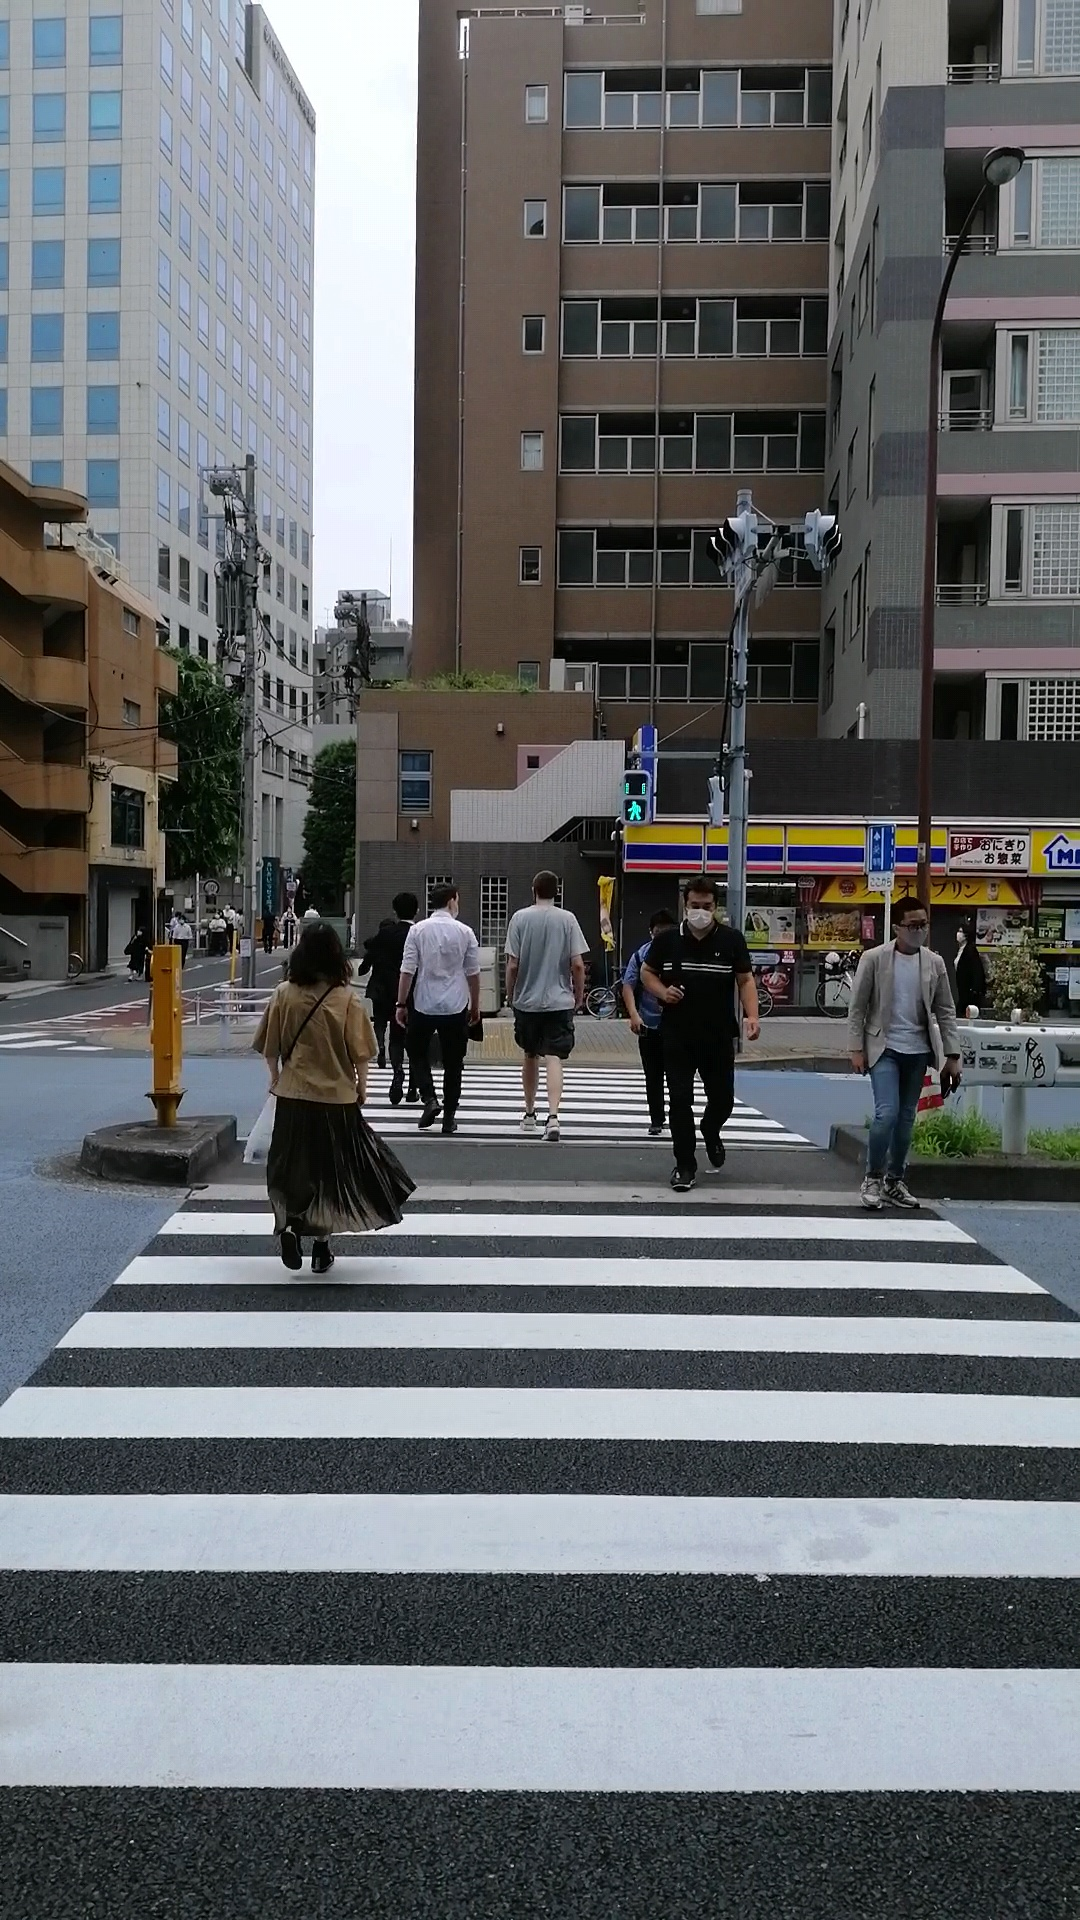green: (618, 770, 651, 825)
